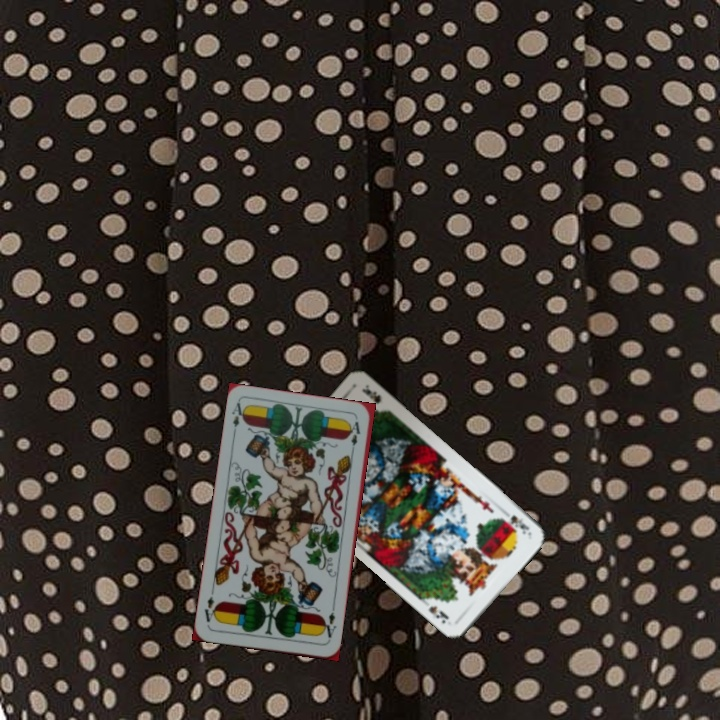EA: (228, 399, 249, 439), (318, 608, 339, 643)
SK: (506, 511, 532, 537)
